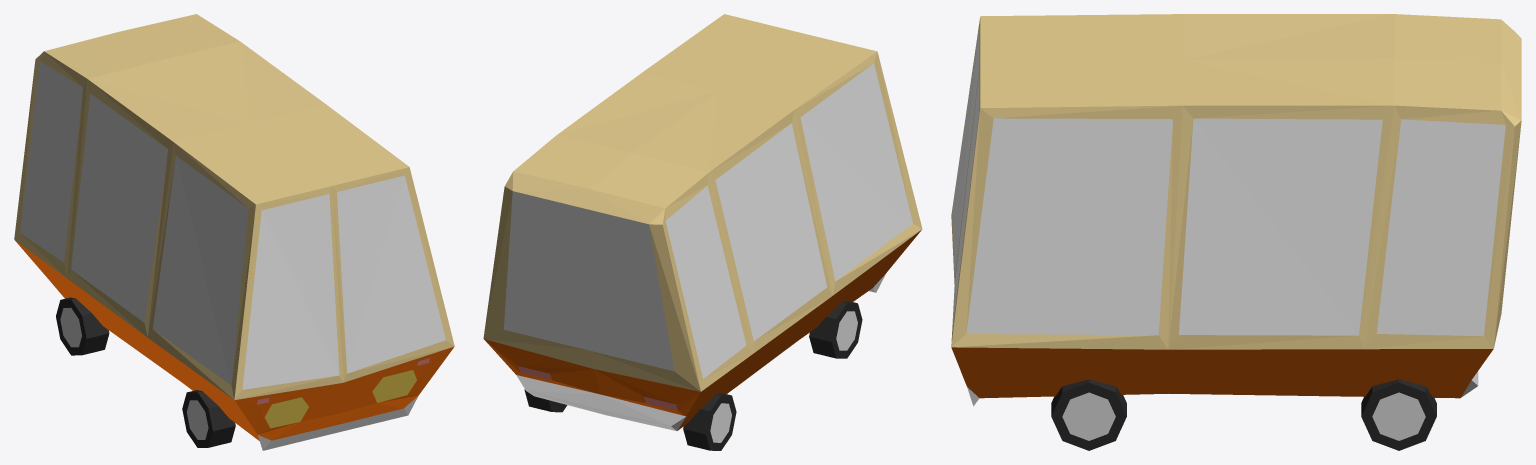
The model's file is C_Car_03.fbx.
3 views of the same model, side by side, from view 1: azimuth 30°, elevation 25°; view 2: azimuth 150°, elevation 25°; view 3: azimuth 270°, elevation 25° (orthographic). The views are drawn at different scales.
Parts seen in each view (by area): view 1: Car_03, wheel_3_4, wheel_3_3; view 2: Car_03, wheel_3_3, wheel_3_4, wheel_3_1; view 3: Car_03, wheel_3_2, wheel_3_1.
Part boxes in pixels (bbox=[...]): Car_03: bbox=[14, 14, 454, 450]; wheel_3_4: bbox=[56, 297, 109, 355]; wheel_3_3: bbox=[182, 390, 235, 447]; Car_03: bbox=[483, 14, 922, 430]; wheel_3_3: bbox=[809, 301, 862, 358]; wheel_3_4: bbox=[683, 393, 736, 450]; wheel_3_1: bbox=[524, 389, 567, 412]; Car_03: bbox=[951, 14, 1521, 406]; wheel_3_2: bbox=[1051, 379, 1126, 450]; wheel_3_1: bbox=[1361, 379, 1436, 450].
Bounding box in the file's own units: 29.55 × 35.28 × 54.01.
